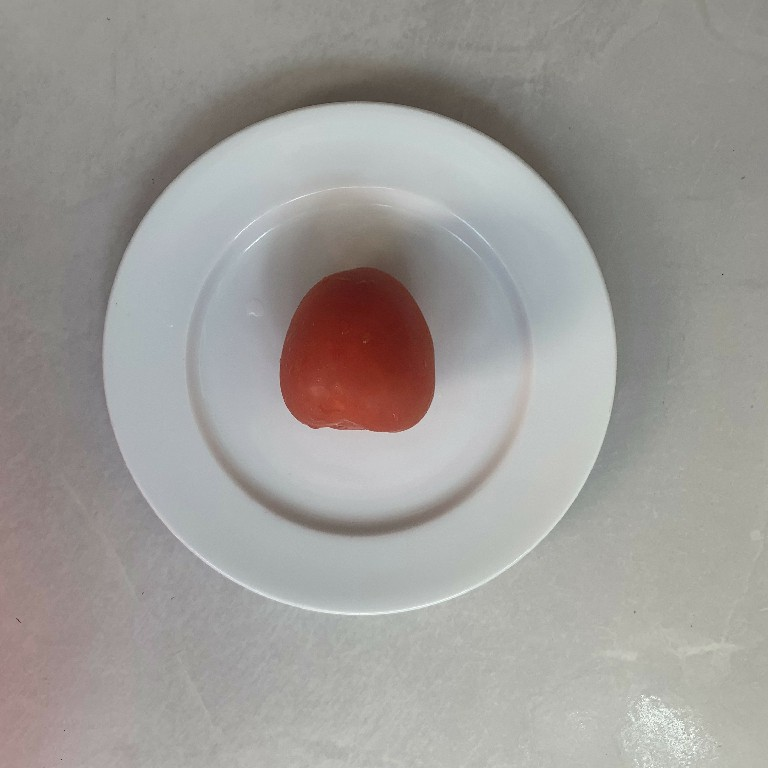OK: (274, 262, 438, 438)
